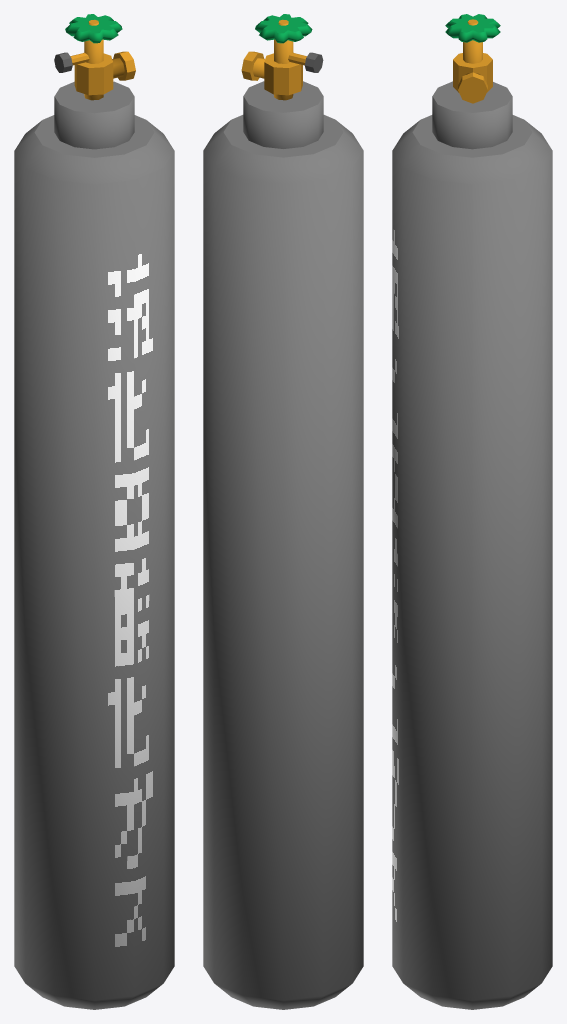
File: bonbe.fbx
3 renders of one model, left to right at view 1: azimuth 30°, elevation 25°; view 2: azimuth 150°, elevation 25°; view 3: azimuth 270°, elevation 25°, orthographic.
Parts seen in each view (by area): view 1: body, Cylinder; view 2: body, Cylinder; view 3: body, Cylinder.
Part boxes in pixels (x1,y1,x2,y2): body: [14, 81, 174, 1009]; Cylinder: [54, 14, 135, 100]; body: [203, 81, 363, 1009]; Cylinder: [241, 14, 323, 100]; body: [392, 81, 552, 1009]; Cylinder: [445, 14, 500, 103].
Size of the model in its own units: 16 by 106 by 16.
5 materials, 1 textured.
